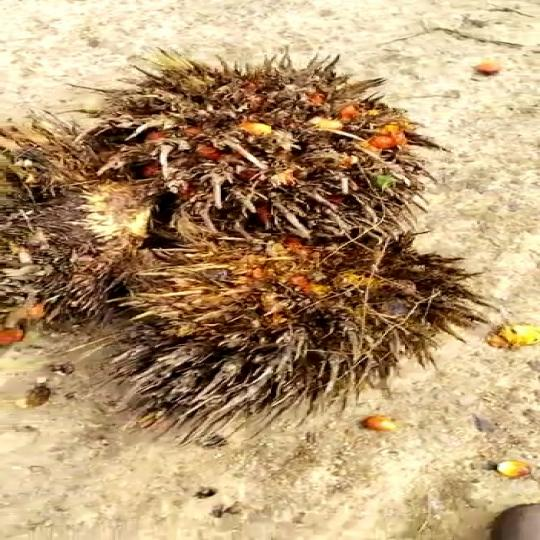terlalu masak: (110, 222, 506, 436), (50, 45, 458, 230)
